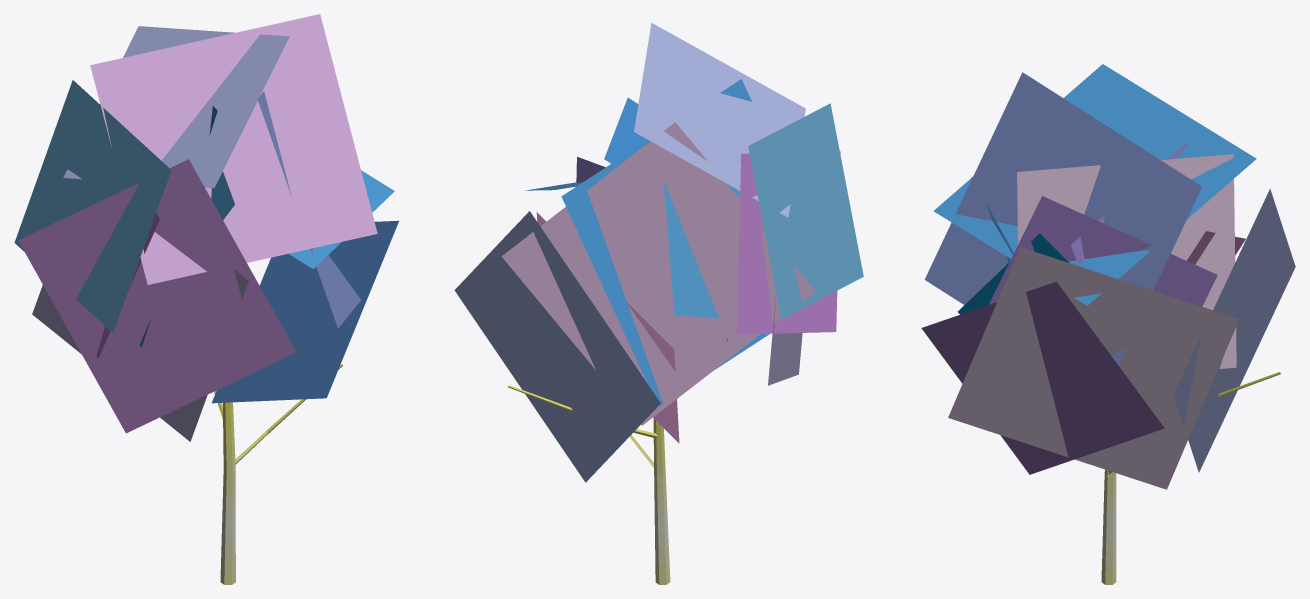
File: tree_lime_1.glb
3 renders of one model, left to right at view 1: azimuth 30°, elevation 25°; view 2: azimuth 150°, elevation 25°; view 3: azimuth 270°, elevation 25°, orthographic. The views are drawn at different scales.
Parts seen in each view (by area): view 1: tree_lime_1; view 2: tree_lime_1; view 3: tree_lime_1.
Part boxes in pixels (x1,y1,x2,y2): tree_lime_1: (14, 14, 398, 584); tree_lime_1: (454, 23, 863, 584); tree_lime_1: (921, 64, 1295, 584).
Bounding box in the file's own units: 8.12 × 11.51 × 7.75.
